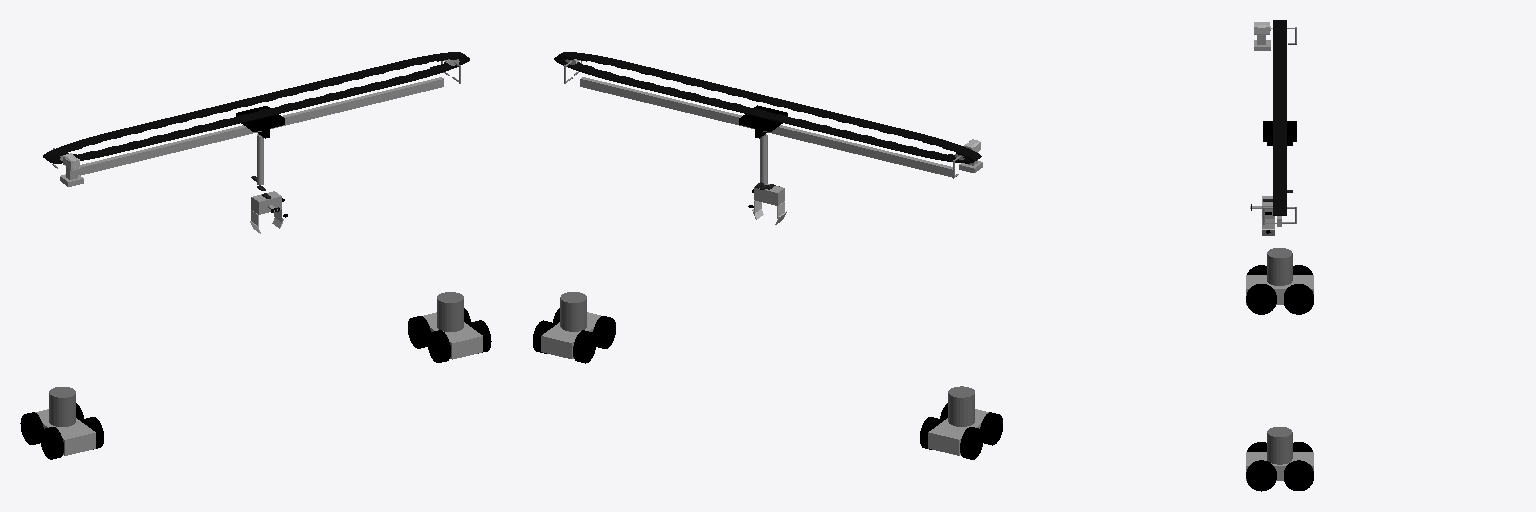
--- What the picture shows (computed from the rendered views, not written in the file) ---
Views: 3 orthographic renders of the robot side by side, from view 1: azimuth 30°, elevation 25°; view 2: azimuth 150°, elevation 25°; view 3: azimuth 270°, elevation 25°.
Model bot with 66 links and 65 joints (1 revolute, 9 continuous, 6 prismatic, 49 fixed), rooted at Untitled.052, posed all joints at 0.
Visible links, largest first — view 1: Untitled.058, Untitled.052, Untitled.004, Untitled.009, Untitled.046, Untitled.045, Untitled.008, Untitled.017, Untitled.011, Untitled.007, Untitled.026; view 2: Untitled.058, Untitled.052, Untitled.004, Untitled.009, Untitled.046, Untitled.045, Untitled.007, Untitled.011, Untitled.017, Untitled.008, Untitled.026; view 3: Untitled.058, Untitled.046, Untitled.045, Untitled.005, Untitled.015, Untitled.006, Untitled.013, Untitled.004, Untitled.009.
Link boxes in pixels (<box>): Untitled.058: <box>43,52,469,163</box>; Untitled.052: <box>78,77,443,175</box>; Untitled.004: <box>35,409,95,455</box>; Untitled.009: <box>423,312,482,359</box>; Untitled.046: <box>49,387,75,426</box>; Untitled.045: <box>437,292,463,331</box>; Untitled.008: <box>40,427,63,459</box>; Untitled.017: <box>427,330,450,362</box>; Untitled.011: <box>408,316,430,348</box>; Untitled.007: <box>20,412,43,444</box>; Untitled.026: <box>236,106,284,131</box>; Untitled.058: <box>554,52,981,163</box>; Untitled.052: <box>580,77,952,177</box>; Untitled.004: <box>928,409,988,455</box>; Untitled.009: <box>541,312,600,358</box>; Untitled.046: <box>948,386,974,426</box>; Untitled.045: <box>560,292,586,331</box>; Untitled.007: <box>960,427,983,459</box>; Untitled.011: <box>573,330,596,363</box>; Untitled.017: <box>593,316,615,348</box>; Untitled.008: <box>980,412,1002,445</box>; Untitled.026: <box>739,105,787,131</box>; Untitled.058: <box>1273,20,1286,215</box>; Untitled.046: <box>1267,248,1292,285</box>; Untitled.045: <box>1267,427,1292,464</box>; Untitled.005: <box>1246,284,1276,314</box>; Untitled.015: <box>1246,460,1276,491</box>; Untitled.006: <box>1284,284,1313,314</box>; Untitled.013: <box>1284,460,1313,490</box>; Untitled.004: <box>1246,275,1313,304</box>; Untitled.009: <box>1246,452,1313,480</box>.
Bounding box of the posed robot: 2.81 × 0.4022 × 1.84 m (x, y, z).
Meshes: 15 distinct files referenced, 7 mesh visuals loaded (6 binary STL); not drawn: 9 (reference not matched to a file when rendering).

robot.urdf — bot:
<?xml version="1.0"?>
<!-- created with Phobos 1.0.1 "Capricious Choutengan" -->
  <robot name="bot">

    <link name="Untitled">
      <inertial>
        <origin xyz="0 0 0" rpy="0 0 0"/>
        <mass value="0.001"/>
        <inertia ixx="0.001" ixy="0" ixz="0" iyy="0.001" iyz="0" izz="0.001"/>
      </inertial>
    </link>

    <link name="Untitled.001">
      <inertial>
        <origin xyz="0 0 0" rpy="0 0 0"/>
        <mass value="0.001"/>
        <inertia ixx="0.001" ixy="0" ixz="0" iyy="0.001" iyz="0" izz="0.001"/>
      </inertial>
    </link>

    <link name="Untitled.002">
      <inertial>
        <origin xyz="0 0 0" rpy="0 0 0"/>
        <mass value="0.001"/>
        <inertia ixx="0.001" ixy="0" ixz="0" iyy="0.001" iyz="0" izz="0.001"/>
      </inertial>
    </link>

    <link name="Untitled.003">
      <inertial>
        <origin xyz="0 0 0" rpy="0 0 0"/>
        <mass value="0.001"/>
        <inertia ixx="0.001" ixy="0" ixz="0" iyy="0.001" iyz="0" izz="0.001"/>
      </inertial>
    </link>

    <link name="Untitled.004">
      <inertial>
        <origin xyz="0 0 0" rpy="0 0 0"/>
        <mass value="8.0"/>
        <inertia ixx="0.00043" ixy="0" ixz="0" iyy="0.00145" iyz="0" izz="0.06667"/>
      </inertial>
      <visual name="base link.000">
        <origin xyz="0 0 0" rpy="0 0 0"/>
        <geometry>
          <box size="0.4 0.2 0.1"/>
        </geometry>
        <material name="Material.005"/>
      </visual>
      <collision name="base link.000">
        <origin xyz="0 0 0" rpy="0 0 0"/>
        <geometry>
          <box size="0.4 0.2 0.1"/>
        </geometry>
      </collision>
    </link>

    <link name="Untitled.005">
      <inertial>
        <origin xyz="0 0 0" rpy="0 0 0"/>
        <mass value="0.25"/>
        <inertia ixx="7e-05" ixy="0" ixz="0" iyy="0.00013" iyz="0" izz="0.00056"/>
      </inertial>
      <visual name="bl Link.000">
        <origin xyz="-0.0022 0 0" rpy="-3.14159 0 0"/>
        <geometry>
          <cylinder radius="0.09" length="0.05"/>
        </geometry>
        <material name="Material.004"/>
      </visual>
      <collision name="bl Link.000">
        <origin xyz="-0.0022 0 0" rpy="-3.14159 0 0"/>
        <geometry>
          <cylinder radius="0.09" length="0.05"/>
        </geometry>
      </collision>
    </link>

    <link name="Untitled.006">
      <inertial>
        <origin xyz="0 0 0" rpy="0 0 0"/>
        <mass value="0.25"/>
        <inertia ixx="7e-05" ixy="0" ixz="0" iyy="0.00013" iyz="0" izz="0.00056"/>
      </inertial>
      <visual name="bl Link.002.000">
        <origin xyz="-0.0022 0 0" rpy="-3.14159 0 0"/>
        <geometry>
          <cylinder radius="0.09" length="0.05"/>
        </geometry>
        <material name="Material.001"/>
      </visual>
      <collision name="bl Link.002.000">
        <origin xyz="-0.0022 0 0" rpy="-3.14159 0 0"/>
        <geometry>
          <cylinder radius="0.09" length="0.05"/>
        </geometry>
      </collision>
    </link>

    <link name="Untitled.007">
      <inertial>
        <origin xyz="0 0 0" rpy="0 0 0"/>
        <mass value="0.25"/>
        <inertia ixx="7e-05" ixy="0" ixz="0" iyy="0.00013" iyz="0" izz="0.00056"/>
      </inertial>
      <visual name="bl Link.003.000">
        <origin xyz="-0.0022 0 0" rpy="0 0 0"/>
        <geometry>
          <cylinder radius="0.09" length="0.05"/>
        </geometry>
        <material name="Material.002"/>
      </visual>
      <collision name="bl Link.003.000">
        <origin xyz="-0.0022 0 0" rpy="0 0 0"/>
        <geometry>
          <cylinder radius="0.09" length="0.05"/>
        </geometry>
      </collision>
    </link>

    <link name="Untitled.008">
      <inertial>
        <origin xyz="0 0 0" rpy="0 0 0"/>
        <mass value="0.25"/>
        <inertia ixx="7e-05" ixy="0" ixz="0" iyy="0.00013" iyz="0" izz="0.00056"/>
      </inertial>
      <visual name="bl Link.001.000">
        <origin xyz="-0.0022 0 0" rpy="0 0 0"/>
        <geometry>
          <cylinder radius="0.09" length="0.05"/>
        </geometry>
        <material name="Material.003"/>
      </visual>
      <collision name="bl Link.001.000">
        <origin xyz="-0.0022 0 0" rpy="0 0 0"/>
        <geometry>
          <cylinder radius="0.09" length="0.05"/>
        </geometry>
      </collision>
    </link>

    <link name="Untitled.009">
      <inertial>
        <origin xyz="0 0 0" rpy="0 0 0"/>
        <mass value="8.0"/>
        <inertia ixx="0.00043" ixy="0" ixz="0" iyy="0.00145" iyz="0" izz="0.06667"/>
      </inertial>
      <visual name="base link.001">
        <origin xyz="0 0 0" rpy="0 0 0"/>
        <geometry>
          <box size="0.4 0.2 0.1"/>
        </geometry>
        <material name="Material.005"/>
      </visual>
      <collision name="base link.000">
        <origin xyz="0 0 0" rpy="0 0 0"/>
        <geometry>
          <box size="0.4 0.2 0.1"/>
        </geometry>
      </collision>
    </link>

    <link name="Untitled.010">
      <inertial>
        <origin xyz="0 0 0" rpy="0 0 0"/>
        <mass value="0.001"/>
        <inertia ixx="0.001" ixy="0" ixz="0" iyy="0.001" iyz="0" izz="0.001"/>
      </inertial>
    </link>

    <link name="Untitled.011">
      <inertial>
        <origin xyz="0 0 0" rpy="0 0 0"/>
        <mass value="0.25"/>
        <inertia ixx="7e-05" ixy="0" ixz="0" iyy="0.00013" iyz="0" izz="0.00056"/>
      </inertial>
      <visual name="bl Link.003.001">
        <origin xyz="-0.0022 0 0" rpy="0 0 0"/>
        <geometry>
          <cylinder radius="0.09" length="0.05"/>
        </geometry>
        <material name="Material.002"/>
      </visual>
      <collision name="bl Link.003.000">
        <origin xyz="-0.0022 0 0" rpy="0 0 0"/>
        <geometry>
          <cylinder radius="0.09" length="0.05"/>
        </geometry>
      </collision>
    </link>

    <link name="Untitled.012">
      <inertial>
        <origin xyz="0 0 0" rpy="0 0 0"/>
        <mass value="0.001"/>
        <inertia ixx="0.001" ixy="0" ixz="0" iyy="0.001" iyz="0" izz="0.001"/>
      </inertial>
    </link>

    <link name="Untitled.013">
      <inertial>
        <origin xyz="0 0 0" rpy="0 0 0"/>
        <mass value="0.25"/>
        <inertia ixx="7e-05" ixy="0" ixz="0" iyy="0.00013" iyz="0" izz="0.00056"/>
      </inertial>
      <visual name="bl Link.002.001">
        <origin xyz="-0.0022 0 0" rpy="-3.14159 0 0"/>
        <geometry>
          <cylinder radius="0.09" length="0.05"/>
        </geometry>
        <material name="Material.001"/>
      </visual>
      <collision name="bl Link.002.000">
        <origin xyz="-0.0022 0 0" rpy="-3.14159 0 0"/>
        <geometry>
          <cylinder radius="0.09" length="0.05"/>
        </geometry>
      </collision>
    </link>

    <link name="Untitled.014">
      <inertial>
        <origin xyz="0 0 0" rpy="0 0 0"/>
        <mass value="0.001"/>
        <inertia ixx="0.001" ixy="0" ixz="0" iyy="0.001" iyz="0" izz="0.001"/>
      </inertial>
    </link>

    <link name="Untitled.015">
      <inertial>
        <origin xyz="0 0 0" rpy="0 0 0"/>
        <mass value="0.25"/>
        <inertia ixx="7e-05" ixy="0" ixz="0" iyy="0.00013" iyz="0" izz="0.00056"/>
      </inertial>
      <visual name="bl Link.001">
        <origin xyz="-0.0022 0 0" rpy="-3.14159 0 0"/>
        <geometry>
          <cylinder radius="0.09" length="0.05"/>
        </geometry>
        <material name="Material.004"/>
      </visual>
      <collision name="bl Link.000">
        <origin xyz="-0.0022 0 0" rpy="-3.14159 0 0"/>
        <geometry>
          <cylinder radius="0.09" length="0.05"/>
        </geometry>
      </collision>
    </link>

    <link name="Untitled.016">
      <inertial>
        <origin xyz="0 0 0" rpy="0 0 0"/>
        <mass value="0.001"/>
        <inertia ixx="0.001" ixy="0" ixz="0" iyy="0.001" iyz="0" izz="0.001"/>
      </inertial>
    </link>

    <link name="Untitled.017">
      <inertial>
        <origin xyz="0 0 0" rpy="0 0 0"/>
        <mass value="0.25"/>
        <inertia ixx="7e-05" ixy="0" ixz="0" iyy="0.00013" iyz="0" izz="0.00056"/>
      </inertial>
      <visual name="bl Link.001.001">
        <origin xyz="-0.0022 0 0" rpy="0 0 0"/>
        <geometry>
          <cylinder radius="0.09" length="0.05"/>
        </geometry>
        <material name="Material.003"/>
      </visual>
      <collision name="bl Link.001.000">
        <origin xyz="-0.0022 0 0" rpy="0 0 0"/>
        <geometry>
          <cylinder radius="0.09" length="0.05"/>
        </geometry>
      </collision>
    </link>

    <link name="Untitled.018">
      <inertial>
        <origin xyz="0 0 0" rpy="0 0 0"/>
        <mass value="0.02"/>
        <inertia ixx="2e-05" ixy="0" ixz="0" iyy="2e-05" iyz="0" izz="2e-05"/>
      </inertial>
      <visual name="base link.002">
        <origin xyz="0 0 0" rpy="0 0 0"/>
        <geometry>
          <mesh filename="base link.stl" scale="0.74892 0.75 0.33333"/>
        </geometry>
        <material name="Material.035"/>
      </visual>
      <collision name="base link.002.000">
        <origin xyz="0 0 0" rpy="0 0 0"/>
        <geometry>
          <mesh filename="base link.001.stl" scale="1.5043 1.5 1.0"/>
        </geometry>
      </collision>
    </link>

    <link name="Untitled.019">
      <inertial>
        <origin xyz="0 0 0" rpy="0 0 0"/>
        <mass value="0.01"/>
        <inertia ixx="2e-05" ixy="0" ixz="0" iyy="2e-05" iyz="0" izz="2e-05"/>
      </inertial>
      <visual name="inner Link.003">
        <origin xyz="0 0 0" rpy="0 0 0"/>
        <geometry>
          <mesh filename="inner Link.006.stl" scale="0.59176 0.57692 0.33333"/>
        </geometry>
        <material name="Material.036"/>
      </visual>
      <collision name="inner Link.003.000">
        <origin xyz="0 0 0" rpy="0 0 0"/>
        <geometry>
          <mesh filename="inner Link.007.stl" scale="1.0 1.0 1.0"/>
        </geometry>
      </collision>
    </link>

    <link name="Untitled.020">
      <inertial>
        <origin xyz="0 0 0" rpy="0 0 0"/>
        <mass value="0.001"/>
        <inertia ixx="2e-05" ixy="0" ixz="0" iyy="2e-05" iyz="0" izz="2e-05"/>
      </inertial>
      <visual name="Half Sphere 2">
        <origin xyz="0 0 0" rpy="-1.5708 0 0"/>
        <geometry>
          <mesh filename="Half Sphere 2.002.stl" scale="0.00489 0.00488 0.00488"/>
        </geometry>
        <material name="Material.037"/>
      </visual>
      <collision name="Half Sphere 2.000">
        <origin xyz="-0.001 0 -0.00176" rpy="-1.5708 0 0"/>
        <geometry>
          <mesh filename="Half Sphere 2.003.stl" scale="1.0 1.0 1.0"/>
        </geometry>
      </collision>
    </link>

    <link name="Untitled.021">
      <inertial>
        <origin xyz="0 0 0.01" rpy="0 0 0"/>
        <mass value="0.01"/>
        <inertia ixx="2e-05" ixy="0" ixz="0" iyy="2e-05" iyz="0" izz="2e-05"/>
      </inertial>
      <visual name="Cube.003">
        <origin xyz="0 0 0.01" rpy="0 0 0"/>
        <geometry>
          <box size="0.15 0.03 0.01"/>
        </geometry>
        <material name="Material.009"/>
      </visual>
      <collision name="Cube.003">
        <origin xyz="0 0 0.01" rpy="0 0 0"/>
        <geometry>
          <box size="0.15 0.03 0.01"/>
        </geometry>
      </collision>
    </link>

    <link name="Untitled.022">
      <inertial>
        <origin xyz="0 0 0" rpy="0 0 0"/>
        <mass value="0.05"/>
        <inertia ixx="2e-05" ixy="0" ixz="0" iyy="2e-05" iyz="0" izz="2e-05"/>
      </inertial>
      <visual name="Cube.002">
        <origin xyz="0 0 0" rpy="0 0 0"/>
        <geometry>
          <box size="0.03 0.03 0.06"/>
        </geometry>
        <material name="Material.010"/>
      </visual>
      <collision name="Cube.002">
        <origin xyz="0 0 0" rpy="0 0 0"/>
        <geometry>
          <box size="0.03 0.03 0.06"/>
        </geometry>
      </collision>
    </link>

    <link name="Untitled.023">
      <inertial>
        <origin xyz="0 0 0" rpy="0 0 0"/>
        <mass value="0.05"/>
        <inertia ixx="2e-05" ixy="0" ixz="0" iyy="2e-05" iyz="0" izz="2e-05"/>
      </inertial>
      <visual name="Cube.001">
        <origin xyz="0 0 0" rpy="0 0 0"/>
        <geometry>
          <box size="0.03 0.03 0.06"/>
        </geometry>
        <material name="Material.010"/>
      </visual>
      <collision name="Cube.001">
        <origin xyz="0 0 0" rpy="0 0 0"/>
        <geometry>
          <box size="0.03 0.03 0.06"/>
        </geometry>
      </collision>
    </link>

    <link name="Untitled.024">
      <inertial>
        <origin xyz="0 0 0" rpy="0 0 0"/>
        <mass value="0.001"/>
        <inertia ixx="0.001" ixy="0" ixz="0" iyy="0.001" iyz="0" izz="0.001"/>
      </inertial>
    </link>

    <link name="Untitled.025">
      <inertial>
        <origin xyz="0 0 0" rpy="0 0 0"/>
        <mass value="0.001"/>
        <inertia ixx="0.001" ixy="0" ixz="0" iyy="0.001" iyz="0" izz="0.001"/>
      </inertial>
    </link>

    <link name="Untitled.026">
      <inertial>
        <origin xyz="0 0 0" rpy="0 0 0"/>
        <mass value="0.5"/>
        <inertia ixx="2e-05" ixy="0" ixz="0" iyy="2e-05" iyz="0" izz="2e-05"/>
      </inertial>
      <visual name="Cube">
        <origin xyz="0 0 0" rpy="-1.5708 0 0"/>
        <geometry>
          <box size="0.2 0.2 0.04"/>
        </geometry>
        <material name="Material.008"/>
      </visual>
      <collision name="Cube">
        <origin xyz="0 0 0" rpy="-1.5708 0 0"/>
        <geometry>
          <box size="0.2 0.2 0.04"/>
        </geometry>
      </collision>
    </link>

    <link name="Untitled.027">
      <inertial>
        <origin xyz="0 0 0" rpy="0 0 0"/>
        <mass value="0.5"/>
        <inertia ixx="0.00286" ixy="0" ixz="0" iyy="0.00286" iyz="0" izz="0.0001"/>
      </inertial>
      <visual name="base link">
        <origin xyz="0 0 0" rpy="0 0 0"/>
        <geometry>
          <mesh filename="base link.006.stl" scale="1.0 1.0 1.0"/>
        </geometry>
        <material name="Material.011"/>
      </visual>
      <collision name="base link.000.001.002">
        <origin xyz="0 0.00061 0" rpy="0 0 0"/>
        <geometry>
          <mesh filename="base link.009.stl" scale="1.0 1.0 1.0"/>
        </geometry>
      </collision>
    </link>

    <link name="Untitled.028">
      <inertial>
        <origin xyz="0 0 0.02952" rpy="0 0 0"/>
        <mass value="0.5"/>
        <inertia ixx="0.00377" ixy="0" ixz="0" iyy="0.00377" iyz="0" izz="4e-05"/>
      </inertial>
      <visual name="inner Link">
        <origin xyz="0 0 0.02952" rpy="0 0 0"/>
        <geometry>
          <mesh filename="inner Link.stl" scale="1.0 1.0 1.0"/>
        </geometry>
        <material name="Material.012"/>
      </visual>
      <collision name="inner Link.000">
        <origin xyz="0 0 0.02952" rpy="0 0 0"/>
        <geometry>
          <mesh filename="inner Link.003.stl" scale="1.0 1.0 1.0"/>
        </geometry>
      </collision>
    </link>

    <link name="Untitled.029">
      <inertial>
        <origin xyz="0 0 0" rpy="0 0 0"/>
        <mass value="0.1"/>
        <inertia ixx="2e-05" ixy="0" ixz="0" iyy="2e-05" iyz="0" izz="2e-05"/>
      </inertial>
      <visual name="Cube.004">
        <origin xyz="0 0 0" rpy="0 0 0"/>
        <geometry>
          <box size="0.06 0.026 0.01"/>
        </geometry>
        <material name="Material.013"/>
      </visual>
      <collision name="Cube.004">
        <origin xyz="0 0 0" rpy="0 0 0"/>
        <geometry>
          <box size="0.06 0.026 0.01"/>
        </geometry>
      </collision>
    </link>

    <link name="Untitled.030">
      <inertial>
        <origin xyz="0 0 0" rpy="0 0 0"/>
        <mass value="0.5"/>
        <inertia ixx="0.00286" ixy="0" ixz="0" iyy="0.00286" iyz="0" izz="0.0001"/>
      </inertial>
      <visual name="base link.003">
        <origin xyz="0 0 0" rpy="0 0 0"/>
        <geometry>
          <mesh filename="base link.007.stl" scale="1.0 1.0 1.0"/>
        </geometry>
        <material name="Material.014"/>
      </visual>
      <collision name="base link.003.000">
        <origin xyz="0 0 0" rpy="0 0 0"/>
        <geometry>
          <mesh filename="base link.010.stl" scale="1.0 1.0 1.0"/>
        </geometry>
      </collision>
    </link>

    <link name="Untitled.031">
      <inertial>
        <origin xyz="0 0 0" rpy="0 0 0"/>
        <mass value="0.5"/>
        <inertia ixx="0.00377" ixy="0" ixz="0" iyy="0.00377" iyz="0" izz="4e-05"/>
      </inertial>
      <visual name="inner Link.001">
        <origin xyz="0 0 0" rpy="0 0 0"/>
        <geometry>
          <mesh filename="inner Link.001.stl" scale="1.0 1.0 1.0"/>
        </geometry>
        <material name="Material.015"/>
      </visual>
      <collision name="inner Link.001.000">
        <origin xyz="0 0 0" rpy="0 0 0"/>
        <geometry>
          <mesh filename="inner Link.004.stl" scale="1.0 1.0 1.0"/>
        </geometry>
      </collision>
    </link>

    <link name="Untitled.032">
      <inertial>
        <origin xyz="0 0 0" rpy="0 0 0"/>
        <mass value="0.1"/>
        <inertia ixx="2e-05" ixy="0" ixz="0" iyy="2e-05" iyz="0" izz="2e-05"/>
      </inertial>
      <visual name="Cube.005">
        <origin xyz="0 0 0" rpy="0 0 0"/>
        <geometry>
          <box size="0.06 0.026 0.01"/>
        </geometry>
        <material name="Material.016"/>
      </visual>
      <collision name="Cube.005">
        <origin xyz="0 0 0" rpy="0 0 0"/>
        <geometry>
          <box size="0.06 0.026 0.01"/>
        </geometry>
      </collision>
    </link>

    <link name="Untitled.033">
      <inertial>
        <origin xyz="0 0 0" rpy="0 0 0"/>
        <mass value="0.5"/>
        <inertia ixx="0.00286" ixy="0" ixz="0" iyy="0.00286" iyz="0" izz="0.0001"/>
      </inertial>
      <visual name="base link.004">
        <origin xyz="0 0 0" rpy="0 0 0"/>
        <geometry>
          <mesh filename="base link.008.stl" scale="1.0 1.0 1.0"/>
        </geometry>
        <material name="Material.017"/>
      </visual>
      <collision name="base link.004.000">
        <origin xyz="0 0 0" rpy="0 0 0"/>
        <geometry>
          <mesh filename="base link.011.stl" scale="1.0 1.0 1.0"/>
        </geometry>
      </collision>
    </link>

    <link name="Untitled.034">
      <inertial>
        <origin xyz="0 0 0" rpy="0 0 0"/>
        <mass value="0.5"/>
        <inertia ixx="0.00377" ixy="0" ixz="0" iyy="0.00377" iyz="0" izz="4e-05"/>
      </inertial>
      <visual name="inner Link.002">
        <origin xyz="0 0 0" rpy="0 0 0"/>
        <geometry>
          <mesh filename="inner Link.002.stl" scale="1.0 1.0 1.0"/>
        </geometry>
        <material name="Material.018"/>
      </visual>
      <collision name="inner Link.002.000">
        <origin xyz="0 0 0" rpy="0 0 0"/>
        <geometry>
          <mesh filename="inner Link.005.stl" scale="1.0 1.0 1.0"/>
        </geometry>
      </collision>
    </link>

    <link name="Untitled.035">
      <inertial>
        <origin xyz="0 0 0" rpy="0 0 0"/>
        <mass value="0.1"/>
        <inertia ixx="2e-05" ixy="0" ixz="0" iyy="2e-05" iyz="0" izz="2e-05"/>
      </inertial>
      <visual name="Cube.006">
        <origin xyz="0 0 0" rpy="0 0 0"/>
        <geometry>
          <box size="0.06 0.026 0.01"/>
        </geometry>
        <material name="Material.019"/>
      </visual>
      <collision name="Cube.006">
        <origin xyz="0 0 0" rpy="0 0 0"/>
        <geometry>
          <box size="0.06 0.026 0.01"/>
        </geometry>
      </collision>
    </link>

    <link name="Untitled.036">
      <inertial>
        <origin xyz="0 0 0" rpy="0 0 0"/>
        <mass value="0.3"/>
        <inertia ixx="2e-05" ixy="0" ixz="0" iyy="2e-05" iyz="0" izz="2e-05"/>
      </inertial>
      <visual name="Cube.007">
        <origin xyz="0 0 0" rpy="0 0 0"/>
        <geometry>
          <box size="0.08 0.15 0.08"/>
        </geometry>
        <material name="Material.020"/>
      </visual>
      <collision name="Cube.007">
        <origin xyz="0 0 0" rpy="0 0 0"/>
        <geometry>
          <box size="0.08 0.145 0.04"/>
        </geometry>
      </collision>
    </link>

    <link name="Untitled.037">
      <inertial>
        <origin xyz="0 0 0" rpy="0 0 0"/>
        <mass value="0.01"/>
        <inertia ixx="2e-05" ixy="0" ixz="0" iyy="2e-05" iyz="0" izz="2e-05"/>
      </inertial>
      <visual name="Cube.009">
        <origin xyz="0 0 0" rpy="0 0 0"/>
        <geometry>
          <box size="0.08 0.005 0.06"/>
        </geometry>
        <material name="Material.021"/>
      </visual>
      <collision name="Cube.009">
        <origin xyz="0 0 0" rpy="0 0 0"/>
        <geometry>
          <box size="0.08 0.005 0.06"/>
        </geometry>
      </collision>
    </link>

    <link name="Untitled.038">
      <inertial>
        <origin xyz="0 0 0" rpy="0 0 0"/>
        <mass value="0.05"/>
        <inertia ixx="2e-05" ixy="0" ixz="0" iyy="2e-05" iyz="0" izz="2e-05"/>
      </inertial>
      <visual name="Cube.008">
        <origin xyz="0 0 0" rpy="-1.5708 0 0"/>
        <geometry>
          <box size="0.08 0.005 0.08"/>
        </geometry>
        <material name="Material.022"/>
      </visual>
      <collision name="Cube.008">
        <origin xyz="0 0 0" rpy="-1.5708 0 0"/>
        <geometry>
          <box size="0.08 0.005 0.08"/>
        </geometry>
      </collision>
    </link>

    <link name="Untitled.039">
      <inertial>
        <origin xyz="0 0 0" rpy="0 0 0"/>
        <mass value="0.01"/>
        <inertia ixx="2e-05" ixy="0" ixz="0" iyy="2e-05" iyz="0" izz="2e-05"/>
      </inertial>
      <visual name="Cube.011">
        <origin xyz="0 0 0" rpy="0 0 0"/>
        <geometry>
          <box size="0.08 0.005 0.06"/>
        </geometry>
        <material name="Material.024"/>
      </visual>
      <collision name="Cube.011">
        <origin xyz="0 0 0" rpy="0 0 0"/>
        <geometry>
          <box size="0.08 0.005 0.06"/>
        </geometry>
      </collision>
    </link>

    <link name="Untitled.040">
      <inertial>
        <origin xyz="0 0 0" rpy="0 0 0"/>
        <mass value="0.05"/>
        <inertia ixx="2e-05" ixy="0" ixz="0" iyy="2e-05" iyz="0" izz="2e-05"/>
      </inertial>
      <visual name="Cube.010">
        <origin xyz="0 0 0" rpy="1.5708 0 0"/>
        <geometry>
          <box size="0.08 0.005 0.08"/>
        </geometry>
        <material name="Material.023"/>
      </visual>
      <collision name="Cube.010">
        <origin xyz="0 0 0" rpy="1.5708 0 0"/>
        <geometry>
          <box size="0.08 0.005 0.08"/>
        </geometry>
      </collision>
    </link>

    <link name="Untitled.041">
      <inertial>
        <origin xyz="0 0 0" rpy="0 0 0"/>
        <mass value="0.005"/>
        <inertia ixx="2e-05" ixy="0" ixz="0" iyy="2e-05" iyz="0" izz="2e-05"/>
      </inertial>
      <visual name="Cube.012.000">
        <origin xyz="0 0 0" rpy="0 0 0"/>
        <geometry>
          <box size="0.06 0.026 0.01"/>
        </geometry>
        <material name="Material.025"/>
      </visual>
      <collision name="Cube.012.000">
        <origin xyz="0 0 0" rpy="0 0 0"/>
        <geometry>
          <box size="0.06 0.026 0.01"/>
        </geometry>
      </collision>
    </link>

    <link name="Untitled.042">
      <inertial>
        <origin xyz="0 0 0.01" rpy="0 0 0"/>
        <mass value="0.005"/>
        <inertia ixx="2e-05" ixy="0" ixz="0" iyy="2e-05" iyz="0" izz="2e-05"/>
      </inertial>
      <visual name="Cube.013">
        <origin xyz="0 0 0.01" rpy="-1.5708 0 -1.5708"/>
        <geometry>
          <box size="0.02 0.05 0.01"/>
        </geometry>
        <material name="Material.026"/>
      </visual>
      <collision name="Cube.013">
        <origin xyz="0 0 0.01" rpy="-1.5708 0 -1.5708"/>
        <geometry>
          <box size="0.02 0.05 0.01"/>
        </geometry>
      </collision>
    </link>

    <link name="Untitled.043">
      <inertial>
        <origin xyz="0 0 0" rpy="0 0 0"/>
        <mass value="0.001"/>
        <inertia ixx="0.001" ixy="0" ixz="0" iyy="0.001" iyz="0" izz="0.001"/>
      </inertial>
      <visual name="Cylinder.001">
        <origin xyz="0 0 0" rpy="0 0 0"/>
        <geometry>
          <cylinder radius="0.005" length="0.01"/>
        </geometry>
        <material name="Material.027"/>
      </visual>
    </link>

    <link name="Untitled.044">
      <inertial>
        <origin xyz="0 0 0" rpy="0 0 0"/>
        <mass value="0.001"/>
        <inertia ixx="0.001" ixy="0" ixz="0" iyy="0.001" iyz="0" izz="0.001"/>
      </inertial>
      <visual name="Cylinder">
        <origin xyz="0 0 0" rpy="0 0 0"/>
        <geometry>
          <cylinder radius="0.005" length="0.01"/>
        </geometry>
        <material name="Material.027"/>
      </visual>
    </link>

    <link name="Untitled.045">
      <inertial>
        <origin xyz="0 0 0" rpy="0 0 0"/>
        <mass value="1.0"/>
        <inertia ixx="2e-05" ixy="0" ixz="0" iyy="1e-05" iyz="0" izz="3e-05"/>
      </inertial>
      <visual name="Cylinder.003">
        <origin xyz="0 0 0" rpy="0 0 0"/>
        <geometry>
          <cylinder radius="0.075" length="0.18"/>
        </geometry>
        <material name="Material.028"/>
      </visual>
      <collision name="Cylinder.003">
        <origin xyz="0 0 0" rpy="0 0 0"/>
        <geometry>
          <cylinder radius="0.075" length="0.18"/>
        </geometry>
      </collision>
    </link>

    <link name="Untitled.046">
      <inertial>
        <origin xyz="0 0 0" rpy="0 0 0"/>
        <mass value="1.0"/>
        <inertia ixx="2e-05" ixy="0" ixz="0" iyy="2e-05" iyz="0" izz="2e-05"/>
      </inertial>
      <visual name="Cylinder.002">
        <origin xyz="0 0 0" rpy="0 0 0"/>
        <geometry>
          <cylinder radius="0.075" length="0.18"/>
        </geometry>
        <material name="Material.028"/>
      </visual>
      <collision name="Cylinder.002.000">
        <origin xyz="0 0 0" rpy="0 0 0"/>
        <geometry>
          <mesh filename="Cylinder.020.stl" scale="1.0 1.0 1.0"/>
        </geometry>
      </collision>
    </link>

    <link name="Untitled.047">
      <inertial>
        <origin xyz="0 0 0" rpy="0 0 0"/>
        <mass value="0.01"/>
        <inertia ixx="2e-05" ixy="0" ixz="0" iyy="2e-05" iyz="0" izz="2e-05"/>
      </inertial>
      <visual name="Cube.012">
        <origin xyz="0 -0.01 0" rpy="0 0 0"/>
        <geometry>
          <box size="0.04 0.03 0.01"/>
        </geometry>
        <material name="Material.032"/>
      </visual>
      <collision name="Cube.012">
        <origin xyz="0 -0.01 0" rpy="0 0 0"/>
        <geometry>
          <box size="0.04 0.03 0.01"/>
        </geometry>
      </collision>
    </link>

    <link name="Untitled.048">
      <inertial>
        <origin xyz="0 0 0" rpy="0 0 0"/>
        <mass value="0.001"/>
        <inertia ixx="0.001" ixy="0" ixz="0" iyy="0.001" iyz="0" izz="0.001"/>
      </inertial>
      <visual name="Cube.014">
        <origin xyz="0 0 0" rpy="0 0 0"/>
        <geometry>
          <box size="0.1 0.1 0.03"/>
        </geometry>
        <material name="Material.041"/>
      </visual>
    </link>

    <link name="Untitled.049">
      <inertial>
        <origin xyz="0 0 0" rpy="0 0 0"/>
        <mass value="0.001"/>
        <inertia ixx="0.001" ixy="0" ixz="0" iyy="0.001" iyz="0" izz="0.001"/>
      </inertial>
      <visual name="Cube.015">
        <origin xyz="0 0 0" rpy="0 0 0"/>
        <geometry>
          <box size="0.05 0.05 0.08"/>
        </geometry>
        <material name="Material.042"/>
      </visual>
    </link>

    <link name="Untitled.050">
      <inertial>
        <origin xyz="0 0 -0.74" rpy="0 0 0"/>
        <mass value="3.0"/>
        <inertia ixx="0.54185" ixy="0" ixz="0" iyy="0.54185" iyz="0" izz="0.00176"/>
      </inertial>
      <visual name="vertical rod.001">
        <origin xyz="0 0 -0.74" rpy="1.5708 0 0"/>
        <geometry>
          <mesh filename="vertical rod.001.stl" scale="1.0 1.0 1.0"/>
        </geometry>
        <material name="Material.029"/>
      </visual>
      <collision name="vertical rod.001.000">
        <origin xyz="0 0 -0.74" rpy="1.5708 0 0"/>
        <geometry>
          <mesh filename="vertical rod.002.stl" scale="1.0 1.0 1.0"/>
        </geometry>
      </collision>
    </link>

    <link name="Untitled.051">
      <inertial>
        <origin xyz="0 0 -0.74" rpy="0 0 0"/>
        <mass value="3.0"/>
        <inertia ixx="0.54185" ixy="0" ixz="0" iyy="0.54185" iyz="0" izz="0.00176"/>
      </inertial>
      <visual name="vertical rod">
        <origin xyz="0 0 -0.74" rpy="1.5708 0 0"/>
        <geometry>
          <mesh filename="vertical rod.stl" scale="1.0 1.0 1.0"/>
        </geometry>
        <material name="Material.031"/>
      </visual>
      <collision name="vertical rod.000">
        <origin xyz="0 0 -0.74" rpy="1.5708 0 0"/>
        <geometry>
          <mesh filename="vertical rod.003.stl" scale="1.0 1.0 1.0"/>
        </geometry>
      </collision>
    </link>

    <link name="Untitled.052">
      <inertial>
        <origin xyz="0 0 0" rpy="0 0 0"/>
        <mass value="2.0"/>
        <inertia ixx="1.00174" ixy="0" ixz="0" iyy="0.00057" iyz="0" izz="0.92057"/>
      </inertial>
      <visual name="horizantal rod">
        <origin xyz="0 0 0" rpy="0 0 0"/>
        <geometry>
          <mesh filename="horizantal rod.stl" scale="1.02128 1.0 1.0"/>
        </geometry>
        <material name="Material.030"/>
      </visual>
      <collision name="horizantal rod.000">
        <origin xyz="0 0 0" rpy="0 0 0"/>
        <geometry>
          <mesh filename="horizantal rod.001.stl" scale="1.0 1.0 1.0"/>
        </geometry>
      </collision>
    </link>

    <link name="Untitled.053">
      <inertial>
        <origin xyz="0 0 0" rpy="0 0 0"/>
        <mass value="0.001"/>
        <inertia ixx="0.001" ixy="0" ixz="0" iyy="0.001" iyz="0" izz="0.001"/>
      </inertial>
      <visual name="NEMA 17">
        <origin xyz="0 0 0" rpy="0 0 0"/>
        <geometry>
          <mesh filename="NEMA 17.stl" scale="0.00142 0.00142 0.00221"/>
        </geometry>
        <material name="Material.038"/>
      </visual>
    </link>

    <link name="Untitled.054">
      <inertial>
        <origin xyz="0 0 0" rpy="0 0 0"/>
        <mass value="0.001"/>
        <inertia ixx="0.001" ixy="0" ixz="0" iyy="0.001" iyz="0" izz="0.001"/>
      </inertial>
      <visual name="Pulley T-Mxl-Xl-Htd-Gt2 N-Tooth 20141225-11880-1Y2Kfq6-0">
        <origin xyz="0 0 -0.05" rpy="0 0 0"/>
        <geometry>
          <mesh filename="Pulley T-Mxl-Xl-Htd-Gt2 N-Tooth 20141225-11880-1Y2Kfq6-0.stl" scale="0.00021 0.00037 0.005"/>
        </geometry>
        <material name="Material.039"/>
      </visual>
    </link>

    <link name="Untitled.055">
      <inertial>
        <origin xyz="0 0 0" rpy="0 0 0"/>
        <mass value="0.001"/>
        <inertia ixx="0.001" ixy="0" ixz="0" iyy="0.001" iyz="0" izz="0.001"/>
      </inertial>
      <visual name="Cylinder.004">
        <origin xyz="0 0 0" rpy="0 0 0"/>
        <geometry>
          <cylinder radius="0.005" length="0.08"/>
        </geometry>
        <material name="Material.040"/>
      </visual>
    </link>

    <link name="Untitled.056">
      <inertial>
        <origin xyz="0 0 0" rpy="0 0 0"/>
        <mass value="0.001"/>
        <inertia ixx="0.001" ixy="0" ixz="0" iyy="0.001" iyz="0" izz="0.001"/>
      </inertial>
      <visual name="Cylinder.005">
        <origin xyz="0 0 0" rpy="0 0 0"/>
        <geometry>
          <cylinder radius="0.005" length="0.11"/>
        </geometry>
        <material name="Material.040"/>
      </visual>
    </link>

    <link name="Untitled.057">
      <inertial>
        <origin xyz="0 0 0" rpy="0 0 0"/>
        <mass value="0.001"/>
        <inertia ixx="0.001" ixy="0" ixz="0" iyy="0.001" iyz="0" izz="0.001"/>
      </inertial>
      <visual name="Cylinder.006">
        <origin xyz="0 0 0" rpy="0 0 0"/>
        <geometry>
          <cylinder radius="0.005" length="0.05"/>
        </geometry>
        <material name="Material.040"/>
      </visual>
    </link>

    <link name="Untitled.058">
      <inertial>
        <origin xyz="0 0 0" rpy="0 0 0"/>
        <mass value="0.001"/>
        <inertia ixx="0.001" ixy="0" ixz="0" iyy="0.001" iyz="0" izz="0.001"/>
      </inertial>
      <visual name="Original">
        <origin xyz="0 0 0" rpy="0 0 0"/>
        <geometry>
          <mesh filename="Original.stl" scale="0.1462 0.01681 0.04734"/>
        </geometry>
        <material name="Material.006"/>
      </visual>
    </link>

    <link name="Untitled.059">
      <inertial>
        <origin xyz="0 0 0" rpy="0 0 0"/>
        <mass value="0.001"/>
        <inertia ixx="0.001" ixy="0" ixz="0" iyy="0.001" iyz="0" izz="0.001"/>
      </inertial>
      <visual name="Cylinder.012">
        <origin xyz="0 0 0" rpy="0 0 0"/>
        <geometry>
          <cylinder radius="0.005" length="0.08"/>
        </geometry>
        <material name="Material.040"/>
      </visual>
    </link>

    <link name="Untitled.060">
      <inertial>
        <origin xyz="0 0 0" rpy="0 0 0"/>
        <mass value="0.001"/>
        <inertia ixx="0.001" ixy="0" ixz="0" iyy="0.001" iyz="0" izz="0.001"/>
      </inertial>
      <visual name="Cylinder.010">
        <origin xyz="0 0 0" rpy="0 0 0"/>
        <geometry>
          <cylinder radius="0.005" length="0.11"/>
        </geometry>
        <material name="Material.040"/>
      </visual>
    </link>

    <link name="Untitled.061">
      <inertial>
        <origin xyz="0 0 0" rpy="0 0 0"/>
        <mass value="0.001"/>
        <inertia ixx="0.001" ixy="0" ixz="0" iyy="0.001" iyz="0" izz="0.001"/>
      </inertial>
      <visual name="Cylinder.009">
        <origin xyz="0 0 0" rpy="0 0 0"/>
        <geometry>
          <cylinder radius="0.005" length="0.08"/>
        </geometry>
        <material name="Material.040"/>
      </visual>
      <visual name="Pulley T-Mxl-Xl-Htd-Gt2 N-Tooth 20141225-11880-1Y2Kfq6-0.001">
        <origin xyz="0 0 0.0194" rpy="0 -3.14159 0"/>
        <geometry>
          <mesh filename="Pulley T-Mxl-Xl-Htd-Gt2 N-Tooth 20141225-11880-1Y2Kfq6-0.stl" scale="0.00021 0.00037 0.005"/>
        </geometry>
        <material name="Material.039"/>
      </visual>
    </link>

    <link name="Untitled.062">
      <inertial>
        <origin xyz="0 0 0" rpy="0 0 0"/>
        <mass value="0.001"/>
        <inertia ixx="0.001" ixy="0" ixz="0" iyy="0.001" iyz="0" izz="0.001"/>
      </inertial>
    </link>

    <link name="Untitled.063">
      <inertial>
        <origin xyz="0 0 0" rpy="0 0 0"/>
        <mass value="0.001"/>
        <inertia ixx="0.001" ixy="0" ixz="0" iyy="0.001" iyz="0" izz="0.001"/>
      </inertial>
      <visual name="Cylinder.008">
        <origin xyz="0 0 0" rpy="0 0 0"/>
        <geometry>
          <cylinder radius="0.005" length="0.08"/>
        </geometry>
        <material name="Material.040"/>
      </visual>
    </link>

    <link name="Untitled.064">
      <inertial>
        <origin xyz="0 0 0" rpy="0 0 0"/>
        <mass value="0.001"/>
        <inertia ixx="0.001" ixy="0" ixz="0" iyy="0.001" iyz="0" izz="0.001"/>
      </inertial>
      <visual name="Cylinder.007">
        <origin xyz="0 0 0" rpy="0 0 0"/>
        <geometry>
          <cylinder radius="0.005" length="0.11"/>
        </geometry>
        <material name="Material.040"/>
      </visual>
    </link>

    <link name="Untitled.065">
      <inertial>
        <origin xyz="0 0 0" rpy="0 0 0"/>
        <mass value="0.001"/>
        <inertia ixx="0.001" ixy="0" ixz="0" iyy="0.001" iyz="0" izz="0.001"/>
      </inertial>
      <visual name="Cylinder.011">
        <origin xyz="0 0 0" rpy="0 0 0"/>
        <geometry>
          <cylinder radius="0.005" length="0.08"/>
        </geometry>
        <material name="Material.040"/>
      </visual>
    </link>

    <joint name="Untitled" type="fixed">
      <origin xyz="-0.11 0.06 0" rpy="1.5708 0 0"/>
      <parent link="Untitled.004"/>
      <child link="Untitled"/>
    </joint>

    <joint name="Untitled.001" type="fixed">
      <origin xyz="-0.11 -0.06 0" rpy="-1.5708 0 0"/>
      <parent link="Untitled.004"/>
      <child link="Untitled.001"/>
    </joint>

    <joint name="Untitled.002" type="fixed">
      <origin xyz="0.11 0.06 0" rpy="1.5708 0 0"/>
      <parent link="Untitled.004"/>
      <child link="Untitled.002"/>
    </joint>

    <joint name="Untitled.003" type="fixed">
      <origin xyz="0.11 -0.06 0" rpy="-1.5708 0 0"/>
      <parent link="Untitled.004"/>
      <child link="Untitled.003"/>
    </joint>

    <joint name="Untitled.004" type="fixed">
      <origin xyz="0 0 -1.575" rpy="0 0 0"/>
      <parent link="Untitled.051"/>
      <child link="Untitled.004"/>
    </joint>

    <joint name="Untitled.005" type="continuous">
      <origin xyz="0 0 -0.07" rpy="3.14159 0 0"/>
      <parent link="Untitled.002"/>
      <child link="Untitled.005"/>
      <axis xyz="0 0 1.0"/>
      <limit effort="0.1" velocity="1.5"/>
    </joint>

    <joint name="Untitled.006" type="continuous">
      <origin xyz="0 0 -0.07" rpy="3.14159 0 0"/>
      <parent link="Untitled"/>
      <child link="Untitled.006"/>
      <axis xyz="0 0 1.0"/>
      <limit effort="0.1" velocity="1.5"/>
    </joint>

    <joint name="Untitled.007" type="continuous">
      <origin xyz="0 0 -0.07" rpy="-3.14159 0 0"/>
      <parent link="Untitled.001"/>
      <child link="Untitled.007"/>
      <axis xyz="0 0 1.0"/>
      <limit effort="0.1" velocity="1.5"/>
    </joint>

    <joint name="Untitled.008" type="continuous">
      <origin xyz="0 0 -0.07" rpy="-3.14159 0 0"/>
      <parent link="Untitled.003"/>
      <child link="Untitled.008"/>
      <axis xyz="0 0 1.0"/>
      <limit effort="0.1" velocity="1.5"/>
    </joint>

    <joint name="Untitled.009" type="fixed">
      <origin xyz="0 -0.005 -1.5626" rpy="0 0 0"/>
      <parent link="Untitled.050"/>
      <child link="Untitled.009"/>
    </joint>

    <joint name="Untitled.010" type="fixed">
      <origin xyz="-0.11 -0.06 0" rpy="-1.5708 0 0"/>
      <parent link="Untitled.009"/>
      <child link="Untitled.010"/>
    </joint>

    <joint name="Untitled.011" type="continuous">
      <origin xyz="0 0 -0.07" rpy="-3.14159 0 0"/>
      <parent link="Untitled.010"/>
      <child link="Untitled.011"/>
      <axis xyz="0 0 1.0"/>
      <limit effort="0.1" velocity="1.5"/>
    </joint>

    <joint name="Untitled.012" type="fixed">
      <origin xyz="-0.11 0.06 0" rpy="1.5708 0 0"/>
      <parent link="Untitled.009"/>
      <child link="Untitled.012"/>
    </joint>

    <joint name="Untitled.013" type="continuous">
      <origin xyz="0 0 -0.07" rpy="3.14159 0 0"/>
      <parent link="Untitled.012"/>
      <child link="Untitled.013"/>
      <axis xyz="0 0 1.0"/>
      <limit effort="0.1" velocity="1.5"/>
    </joint>

    <joint name="Untitled.014" type="fixed">
      <origin xyz="0.11 0.06 0" rpy="1.5708 0 0"/>
      <parent link="Untitled.009"/>
      <child link="Untitled.014"/>
    </joint>

    <joint name="Untitled.015" type="continuous">
      <origin xyz="0 0 -0.07" rpy="3.14159 0 0"/>
      <parent link="Untitled.014"/>
      <child link="Untitled.015"/>
      <axis xyz="0 0 1.0"/>
      <limit effort="0.1" velocity="1.5"/>
    </joint>

    <joint name="Untitled.016" type="fixed">
      <origin xyz="0.11 -0.06 0" rpy="-1.5708 0 0"/>
      <parent link="Untitled.009"/>
      <child link="Untitled.016"/>
    </joint>

    <joint name="Untitled.017" type="continuous">
      <origin xyz="0 0 -0.07" rpy="-3.14159 0 0"/>
      <parent link="Untitled.016"/>
      <child link="Untitled.017"/>
      <axis xyz="0 0 1.0"/>
      <limit effort="0.1" velocity="1.5"/>
    </joint>

    <joint name="Untitled.018" type="fixed">
      <origin xyz="0 0.02 -0.04" rpy="0 0 0"/>
      <parent link="Untitled.047"/>
      <child link="Untitled.018"/>
    </joint>

    <joint name="Untitled.019" type="prismatic">
      <origin xyz="0 0 -0.01039" rpy="0 0 0"/>
      <parent link="Untitled.018"/>
      <child link="Untitled.019"/>
      <axis xyz="0 0 1.0"/>
      <limit lower="-1.6" upper="1.6" effort="0.01" velocity="0.1"/>
    </joint>

    <joint name="Untitled.020" type="fixed">
      <origin xyz="0 -0.00117 -0.05884" rpy="0 0 0"/>
      <parent link="Untitled.019"/>
      <child link="Untitled.020"/>
    </joint>

    <joint name="Untitled.021" type="fixed">
      <origin xyz="0.06656 -0.00819 -0.00718" rpy="0 0 0"/>
      <parent link="Untitled.024"/>
      <child link="Untitled.021"/>
    </joint>

    <joint name="Untitled.022" type="fixed">
      <origin xyz="-0.06 -0.05371 0" rpy="-1.5708 0 0"/>
      <parent link="Untitled.026"/>
      <child link="Untitled.022"/>
    </joint>

    <joint name="Untitled.023" type="fixed">
      <origin xyz="0.06 -0.05371 0" rpy="-1.5708 0 0"/>
      <parent link="Untitled.026"/>
      <child link="Untitled.023"/>
    </joint>

    <joint name="Untitled.024" type="fixed">
      <origin xyz="-0.00656 0.00819 -0.03142" rpy="0 0 0"/>
      <parent link="Untitled.022"/>
      <child link="Untitled.024"/>
    </joint>

    <joint name="Untitled.025" type="fixed">
      <origin xyz="0.00237 -0.00899 -0.03609" rpy="0 0 0"/>
      <parent link="Untitled.023"/>
      <child link="Untitled.025"/>
    </joint>

    <joint name="Untitled.026" type="prismatic">
      <origin xyz="0.025 0 0.04555" rpy="1.5708 0 -1.5708"/>
      <parent link="Untitled.052"/>
      <child link="Untitled.026"/>
      <axis xyz="0 0 1.0"/>
      <limit lower="-1.2931" upper="1.29" effort="0.1" velocity="1.0"/>
    </joint>

    <joint name="Untitled.027" type="fixed">
      <origin xyz="0.00656 -0.00819 -0.15126" rpy="0 0 0"/>
      <parent link="Untitled.024"/>
      <child link="Untitled.027"/>
    </joint>

    <joint name="Untitled.028" type="prismatic">
      <origin xyz="0 0 -0.02468" rpy="0 0 0"/>
      <parent link="Untitled.027"/>
      <child link="Untitled.028"/>
      <axis xyz="0 0 1.0"/>
      <limit lower="-1.2931" upper="1.29" effort="0.1" velocity="1.0"/>
    </joint>

    <joint name="Untitled.029" type="fixed">
      <origin xyz="0.01 0 -0.12848" rpy="0 0 0"/>
      <parent link="Untitled.028"/>
      <child link="Untitled.029"/>
    </joint>

    <joint name="Untitled.030" type="fixed">
      <origin xyz="0.05 0 0.14075" rpy="0 0 0"/>
      <parent link="Untitled.029"/>
      <child link="Untitled.030"/>
    </joint>

    <joint name="Untitled.031" type="prismatic">
      <origin xyz="0 0 -0.02247" rpy="0 0 0"/>
      <parent link="Untitled.030"/>
      <child link="Untitled.031"/>
      <axis xyz="0 0 1.0"/>
      <limit lower="-1.2931" upper="1.29" effort="0.1" velocity="1.0"/>
    </joint>

    <joint name="Untitled.032" type="fixed">
      <origin xyz="0.00738 0.0014 -0.1528" rpy="0 0 0"/>
      <parent link="Untitled.031"/>
      <child link="Untitled.032"/>
    </joint>

    <joint name="Untitled.033" type="fixed">
      <origin xyz="0.05262 -0.0014 0.13993" rpy="0 0 0"/>
      <parent link="Untitled.032"/>
      <child link="Untitled.033"/>
    </joint>

    <joint name="Untitled.034" type="prismatic">
      <origin xyz="0 0 -0.01" rpy="0 0 0"/>
      <parent link="Untitled.033"/>
      <child link="Untitled.034"/>
      <axis xyz="0 0 1.0"/>
      <limit lower="-1.2931" upper="1.29" effort="0.1" velocity="1.0"/>
    </joint>

    <joint name="Untitled.035" type="fixed">
      <origin xyz="0.00989 -0.00047 -0.15397" rpy="0 0 0"/>
      <parent link="Untitled.034"/>
      <child link="Untitled.035"/>
    </joint>

    <joint name="Untitled.036" type="continuous">
      <origin xyz="-0.00332 0.00214 -0.04292" rpy="0 0 0"/>
      <parent link="Untitled.035"/>
      <child link="Untitled.036"/>
      <axis xyz="0 0 1.0"/>
      <limit effort="0.1" velocity="1.0"/>
    </joint>

    <joint name="Untitled.037" type="fixed">
      <origin xyz="0 -0.05 0" rpy="-1.13446 0 0"/>
      <parent link="Untitled.038"/>
      <child link="Untitled.037"/>
    </joint>

    <joint name="Untitled.038" type="fixed">
      <origin xyz="0 -0.075 -0.08044" rpy="1.5708 0 0"/>
      <parent link="Untitled.036"/>
      <child link="Untitled.038"/>
    </joint>

    <joint name="Untitled.039" type="fixed">
      <origin xyz="0 0.05 0" rpy="1.13446 0 0"/>
      <parent link="Untitled.040"/>
      <child link="Untitled.039"/>
    </joint>

    <joint name="Untitled.040" type="prismatic">
      <origin xyz="0 0.075 -0.08044" rpy="-1.5708 0 0"/>
      <parent link="Untitled.036"/>
      <child link="Untitled.040"/>
      <axis xyz="0 0 1.0"/>
      <limit lower="-1.2931" upper="1.29" effort="0.1" velocity="1.0"/>
    </joint>

    <joint name="Untitled.041" type="fixed">
      <origin xyz="0.07032 -0.00214 -0.00337" rpy="0 0 0"/>
      <parent link="Untitled.036"/>
      <child link="Untitled.041"/>
    </joint>

    <joint name="Untitled.042" type="revolute">
      <origin xyz="0.03 0.01 0.00027" rpy="1.5708 0 0"/>
      <parent link="Untitled.041"/>
      <child link="Untitled.042"/>
      <axis xyz="0 0 1.0"/>
      <limit lower="-1.57" upper="0" effort="0.01" velocity="0.1"/>
    </joint>

    <joint name="Untitled.043" type="fixed">
      <origin xyz="0.002 0 0.02" rpy="-1.5708 0 -1.5708"/>
      <parent link="Untitled.042"/>
      <child link="Untitled.043"/>
    </joint>

    <joint name="Untitled.044" type="fixed">
      <origin xyz="0.002 0 0" rpy="-1.5708 0 -1.5708"/>
      <parent link="Untitled.042"/>
      <child link="Untitled.044"/>
    </joint>

    <joint name="Untitled.045" type="fixed">
      <origin xyz="0 0.005 0.1376" rpy="0 0 0"/>
      <parent link="Untitled.009"/>
      <child link="Untitled.045"/>
    </joint>

    <joint name="Untitled.046" type="fixed">
      <origin xyz="0 0 0.15" rpy="0 0 0"/>
      <parent link="Untitled.004"/>
      <child link="Untitled.046"/>
    </joint>

    <joint name="Untitled.047" type="fixed">
      <origin xyz="0 0.1 0" rpy="0 0 0"/>
      <parent link="Untitled.036"/>
      <child link="Untitled.047"/>
    </joint>

    <joint name="Untitled.048" type="fixed">
      <origin xyz="0.10388 -0.0011 0.01673" rpy="0 0 0"/>
      <parent link="Untitled.051"/>
      <child link="Untitled.048"/>
    </joint>

    <joint name="Untitled.049" type="fixed">
      <origin xyz="0.00415 -0.00265 0.05003" rpy="0 0 0"/>
      <parent link="Untitled.048"/>
      <child link="Untitled.049"/>
    </joint>

    <joint name="Untitled.050" type="fixed">
      <origin xyz="1.25 0 -0.005" rpy="0 0 -1.5708"/>
      <parent link="Untitled.052"/>
      <child link="Untitled.050"/>
    </joint>

    <joint name="Untitled.051" type="fixed">
      <origin xyz="-1.25 0 -0.005" rpy="0 0 -1.5708"/>
      <parent link="Untitled.052"/>
      <child link="Untitled.051"/>
    </joint>

    <joint name="Untitled.053" type="fixed">
      <origin xyz="-0.02833 0 0.05969" rpy="0 -1.5708 0"/>
      <parent link="Untitled.049"/>
      <child link="Untitled.053"/>
    </joint>

    <joint name="Untitled.054" type="fixed">
      <origin xyz="0 0 0.055" rpy="0 0 0"/>
      <parent link="Untitled.053"/>
      <child link="Untitled.054"/>
    </joint>

    <joint name="Untitled.055" type="fixed">
      <origin xyz="0 0 0.08" rpy="0 3.14159 0"/>
      <parent link="Untitled.054"/>
      <child link="Untitled.055"/>
    </joint>

    <joint name="Untitled.056" type="fixed">
      <origin xyz="0.05 0 -0.04" rpy="0 -1.5708 0"/>
      <parent link="Untitled.055"/>
      <child link="Untitled.056"/>
    </joint>

    <joint name="Untitled.057" type="fixed">
      <origin xyz="0.02 0 -0.05" rpy="0 1.5708 0"/>
      <parent link="Untitled.056"/>
      <child link="Untitled.057"/>
    </joint>

    <joint name="Untitled.058" type="fixed">
      <origin xyz="-0.00145 1.25375 0.0247" rpy="3.14159 0 1.5708"/>
      <parent link="Untitled.054"/>
      <child link="Untitled.058"/>
    </joint>

    <joint name="Untitled.059" type="fixed">
      <origin xyz="0.0553 0.00625 0.02708" rpy="0 1.5708 0"/>
      <parent link="Untitled.050"/>
      <child link="Untitled.059"/>
    </joint>

    <joint name="Untitled.060" type="fixed">
      <origin xyz="-0.04812 0 0.04" rpy="0 -1.5708 0"/>
      <parent link="Untitled.059"/>
      <child link="Untitled.060"/>
    </joint>

    <joint name="Untitled.061" type="fixed">
      <origin xyz="-0.04 0 0.05125" rpy="0 1.5708 0"/>
      <parent link="Untitled.060"/>
      <child link="Untitled.061"/>
    </joint>

    <joint name="Untitled.062" type="fixed">
      <origin xyz="0 0 0.0194" rpy="0 -3.14159 0"/>
      <parent link="Untitled.061"/>
      <child link="Untitled.062"/>
    </joint>

    <joint name="Untitled.063" type="fixed">
      <origin xyz="0 -0.00625 0.13" rpy="0 3.14159 0"/>
      <parent link="Untitled.062"/>
      <child link="Untitled.063"/>
    </joint>

    <joint name="Untitled.064" type="fixed">
      <origin xyz="0.05 0 -0.04" rpy="0 -1.5708 0"/>
      <parent link="Untitled.063"/>
      <child link="Untitled.064"/>
    </joint>

    <joint name="Untitled.065" type="fixed">
      <origin xyz="0.04 0 -0.05012" rpy="0 1.5708 0"/>
      <parent link="Untitled.064"/>
      <child link="Untitled.065"/>
    </joint>

    <material name="Material.001">
      <color rgba="0 0 0 1.0"/>
    </material>

    <material name="Material.002">
      <color rgba="0 0 0 1.0"/>
    </material>

    <material name="Material.003">
      <color rgba="0 0 0 1.0"/>
    </material>

    <material name="Material.004">
      <color rgba="0 0 0 1.0"/>
    </material>

    <material name="Material.005">
      <color rgba="0.64 0.64 0.64 1.0"/>
    </material>

    <material name="Material.006">
      <color rgba="0.08 0.08 0.08 1.0"/>
    </material>

    <material name="Material.008">
      <color rgba="0 0 0 1.0"/>
    </material>

    <material name="Material.009">
      <color rgba="0 0 0 1.0"/>
    </material>

    <material name="Material.010">
      <color rgba="0 0 0 1.0"/>
    </material>

    <material name="Material.011">
      <color rgba="0.64 0.64 0.64 1.0"/>
    </material>

    <material name="Material.012">
      <color rgba="0.16 0.16 0.16 1.0"/>
    </material>

    <material name="Material.013">
      <color rgba="0.16 0.16 0.16 1.0"/>
    </material>

    <material name="Material.014">
      <color rgba="0.64 0.64 0.64 1.0"/>
    </material>

    <material name="Material.015">
      <color rgba="0.16 0.16 0.16 1.0"/>
    </material>

    <material name="Material.016">
      <color rgba="0.16 0.16 0.16 1.0"/>
    </material>

    <material name="Material.017">
      <color rgba="0.64 0.64 0.64 1.0"/>
    </material>

    <material name="Material.018">
      <color rgba="0.16 0.16 0.16 1.0"/>
    </material>

    <material name="Material.019">
      <color rgba="0.16 0.16 0.16 1.0"/>
    </material>

    <material name="Material.020">
      <color rgba="0.64 0.64 0.64 1.0"/>
    </material>

    <material name="Material.021">
      <color rgba="0.76 0.76 0.76 1.0"/>
    </material>

    <material name="Material.022">
      <color rgba="0.76 0.76 0.76 1.0"/>
    </material>

    <material name="Material.023">
      <color rgba="0.76 0.76 0.76 1.0"/>
    </material>

    <material name="Material.024">
      <color rgba="0.76 0.76 0.76 1.0"/>
    </material>

    <material name="Material.025">
      <color rgba="0.64 0.64 0.64 1.0"/>
    </material>

    <material name="Material.026">
      <color rgba="0.09 0.09 0.09 1.0"/>
    </material>

    <material name="Material.027">
      <color rgba="0.76 0.76 0.76 1.0"/>
    </material>

    <material name="Material.028">
      <color rgba="0.48 0.48 0.48 1.0"/>
    </material>

    <material name="Material.029">
      <color rgba="0.64 0.64 0.64 1.0"/>
    </material>

    <material name="Material.030">
      <color rgba="0.64 0.64 0.64 1.0"/>
    </material>

    <material name="Material.031">
      <color rgba="0.64 0.64 0.64 1.0"/>
    </material>

    <material name="Material.032">
      <color rgba="0 0 0 1.0"/>
    </material>

    <material name="Material.035">
      <color rgba="0.64 0.64 0.64 1.0"/>
    </material>

    <material name="Material.036">
      <color rgba="0.4 0.4 0.4 1.0"/>
    </material>

    <material name="Material.037">
      <color rgba="0 0 0 1.0"/>
    </material>

    <material name="Material.038">
      <color rgba="0.72 0.72 0.72 1.0"/>
    </material>

    <material name="Material.039">
      <color rgba="0.64 0.64 0.64 1.0"/>
    </material>

    <material name="Material.040">
      <color rgba="0.56 0.56 0.56 1.0"/>
    </material>

    <material name="Material.041">
      <color rgba="0.64 0.64 0.64 1.0"/>
    </material>

    <material name="Material.042">
      <color rgba="0.64 0.64 0.64 1.0"/>
    </material>

  </robot>
